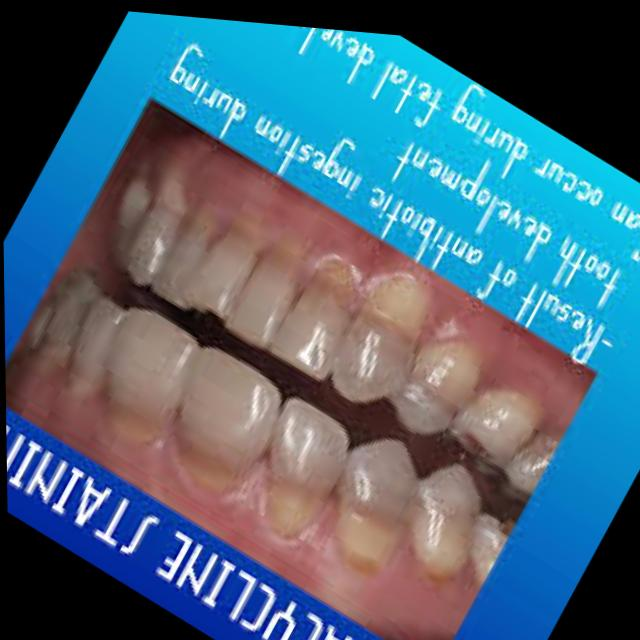tooth-discoloration: (181, 350, 280, 470), (337, 441, 417, 570), (109, 312, 198, 424), (392, 339, 479, 435), (272, 399, 349, 492), (333, 318, 413, 404), (272, 290, 347, 381), (228, 257, 297, 349), (185, 234, 256, 318), (72, 301, 124, 394)
